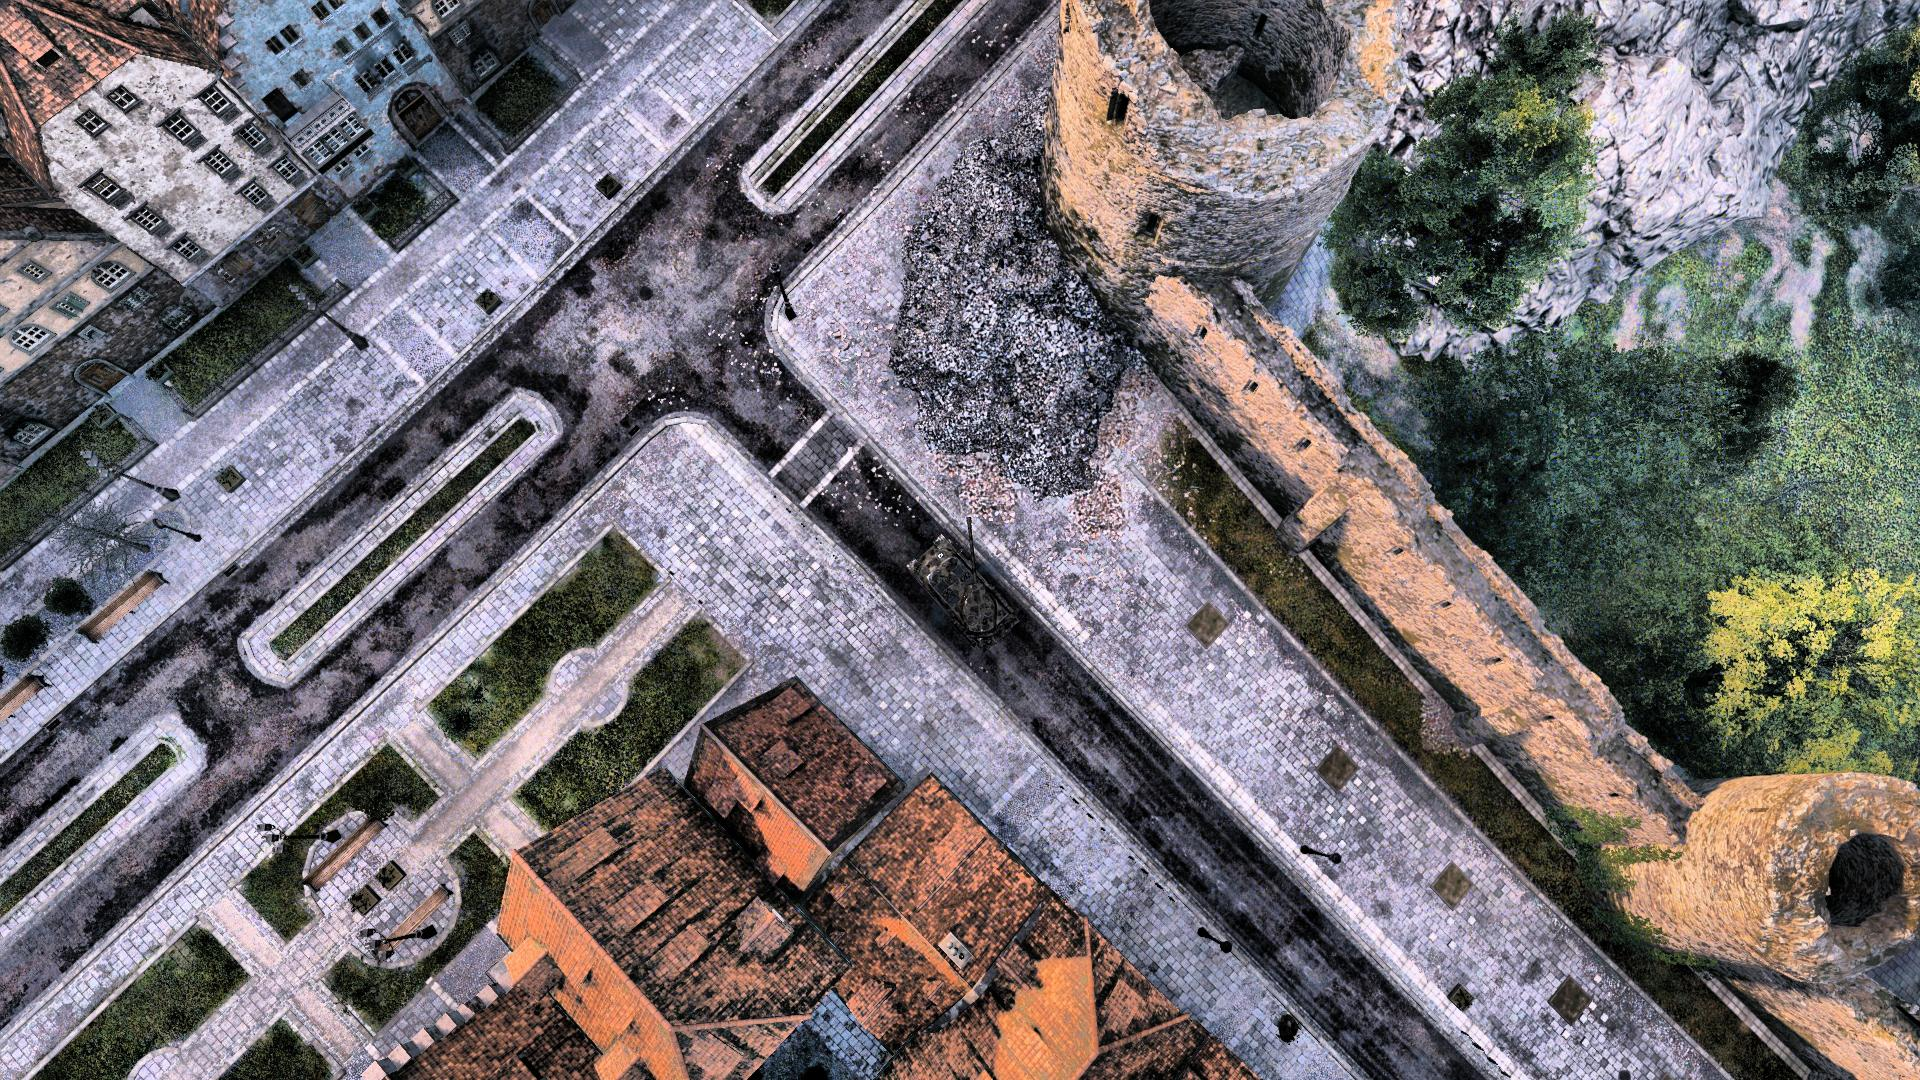military-vehicle: (909, 516, 1018, 655)
